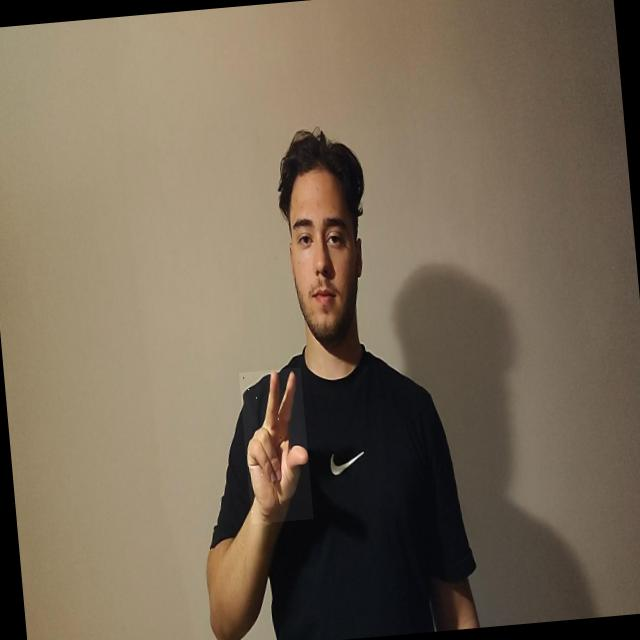no: (239, 367, 314, 524)
